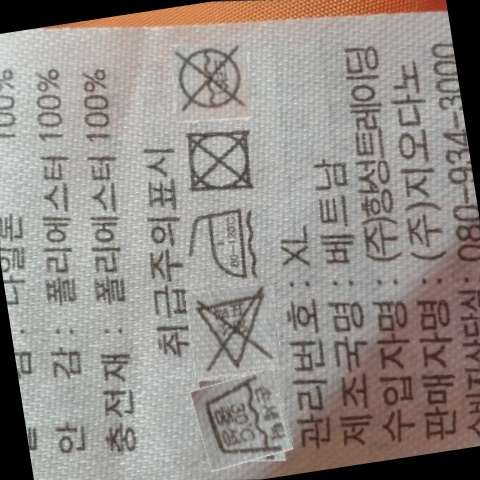DN_dry_clean: (168, 39, 254, 118)
DN_tumble_dry: (179, 121, 262, 199)
hand_wash: (196, 370, 295, 469)
iron_low: (185, 198, 266, 290)
non_chlorine_bleach: (196, 284, 282, 375)
